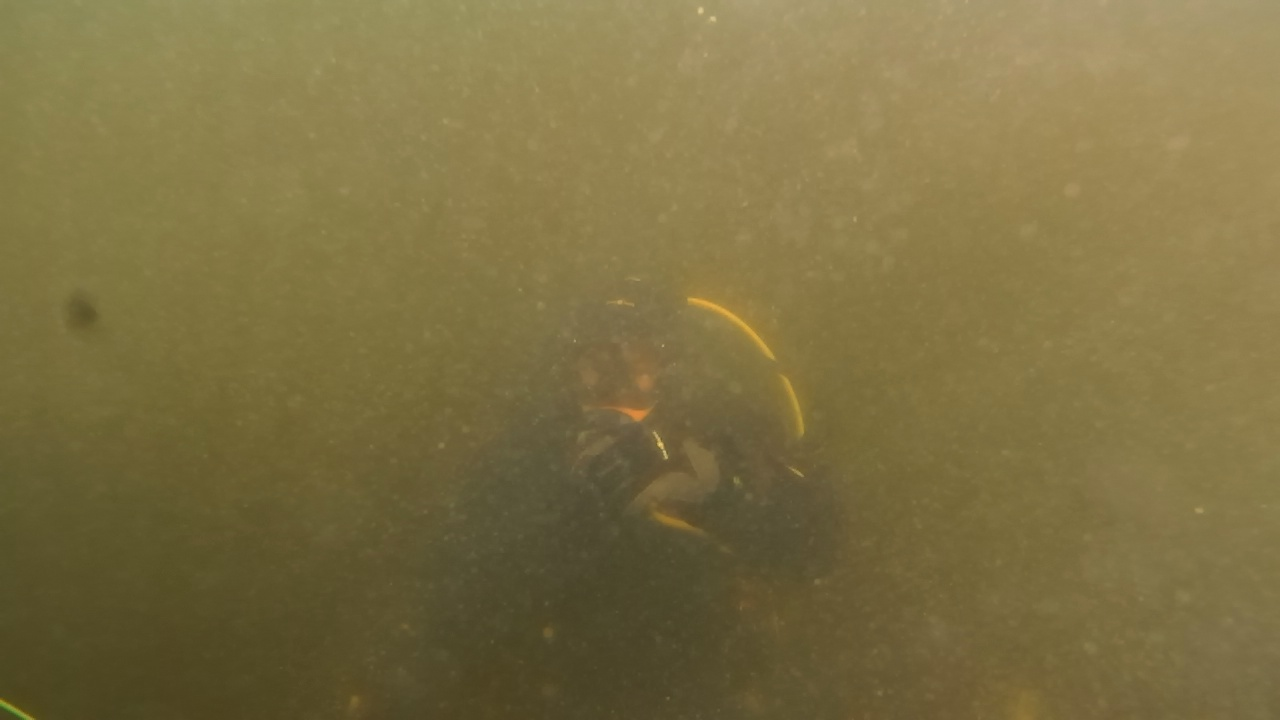Diver: (434, 224, 912, 696)
Head: (546, 286, 710, 472)
